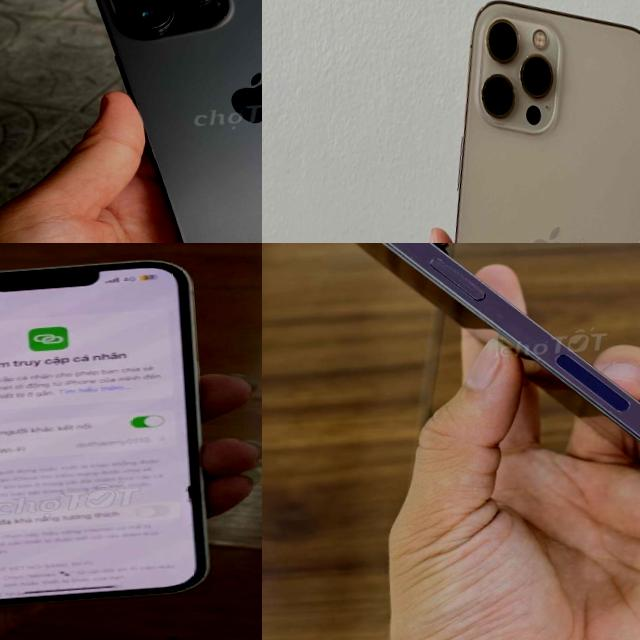gen_12_13: (0, 243, 240, 624), (400, 0, 640, 243)
gen_14: (294, 243, 640, 566), (77, 0, 262, 243)
screen_defect: (172, 479, 208, 517)
